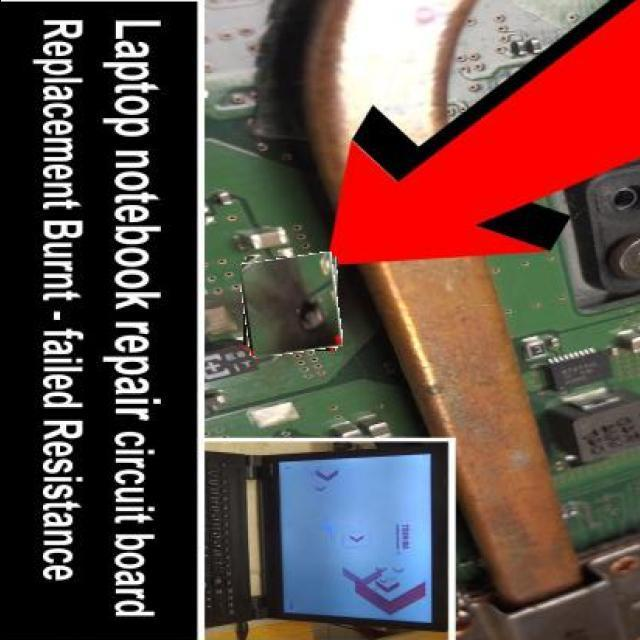Burn: (239, 255, 339, 355)
